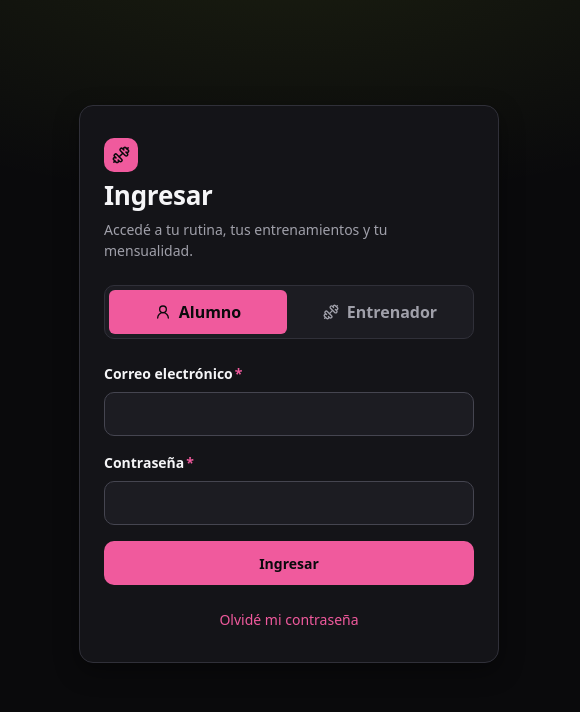
Test: Login › muestra el mensaje del servidor si las credenciales son incorrectas
The image size is (580, 712).
Type "a@b.com" into the field labelled "Correo electrónico*".
click(289, 414); type("a@b.com")  # box 104,392 -> 474,436
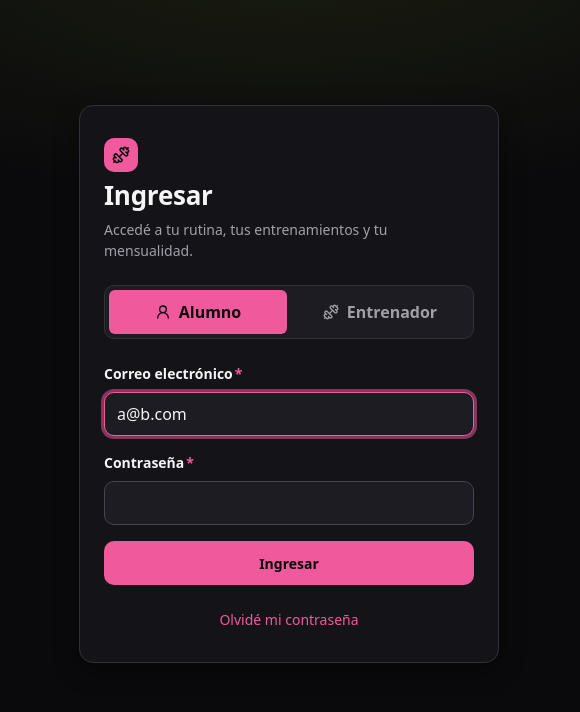
Type "mala12345" into the password field labelled "Contraseña*".
click(289, 503); type("mala12345")  # box 104,481 -> 474,525
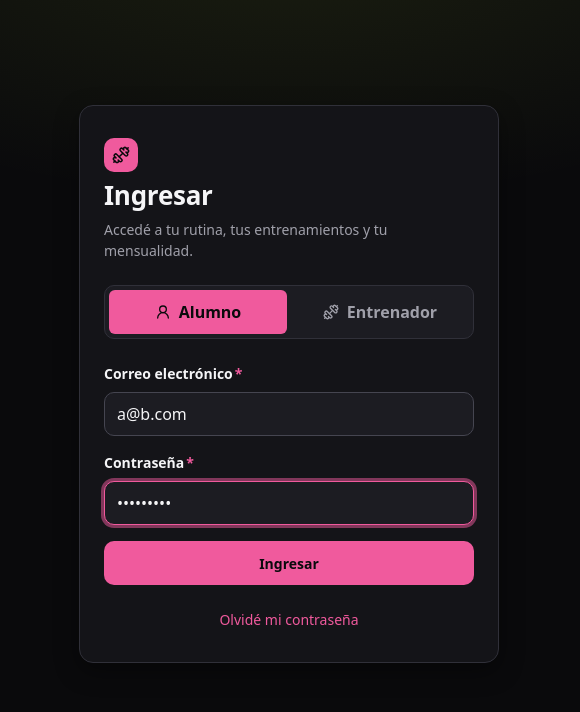
Click the button "Ingresar".
click(289, 563)  # box 104,541 -> 474,585
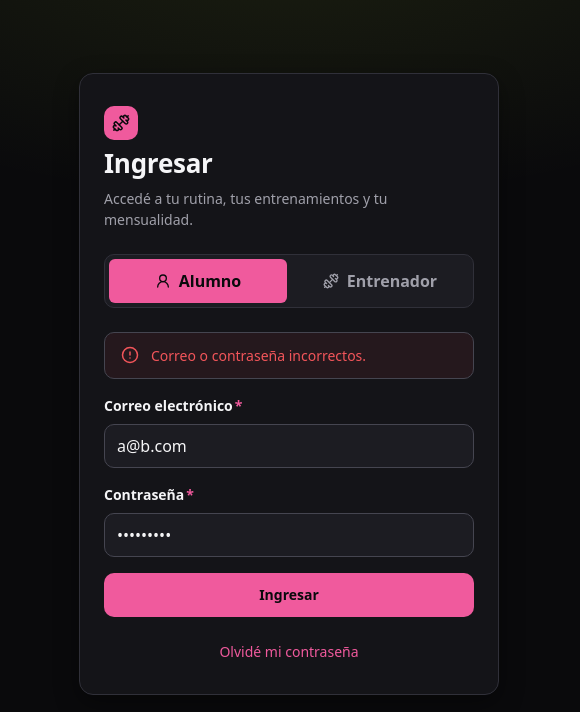
Check: the message reads "Correo o contraseña incorrectos.", box 151,346 -> 366,365
